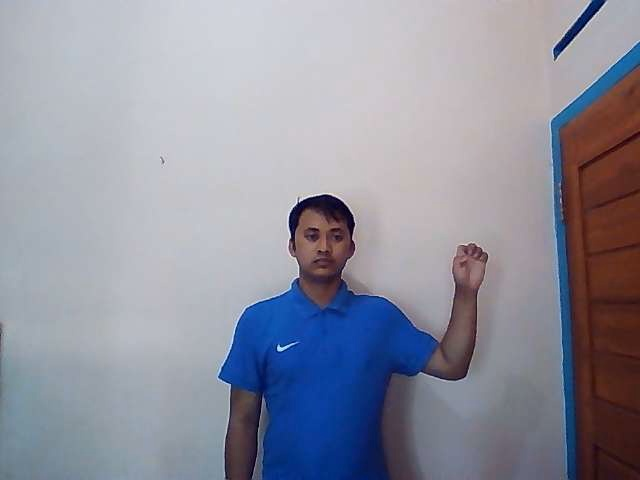E: (451, 242, 490, 291)
